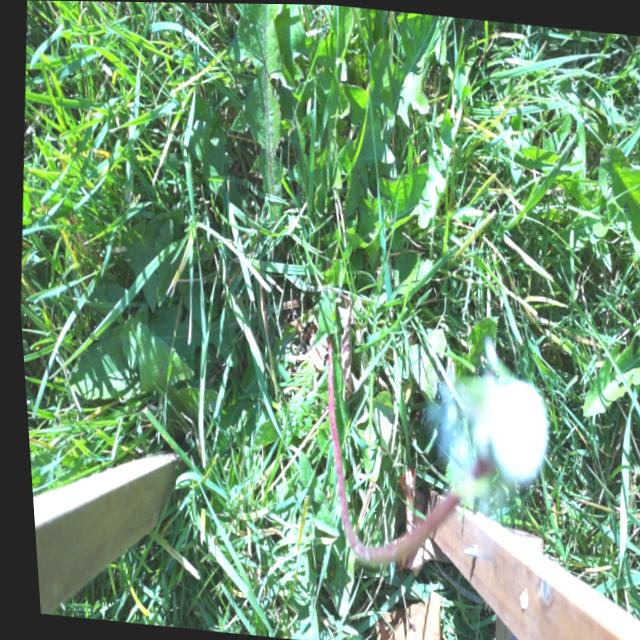base: (312, 332, 339, 374)
